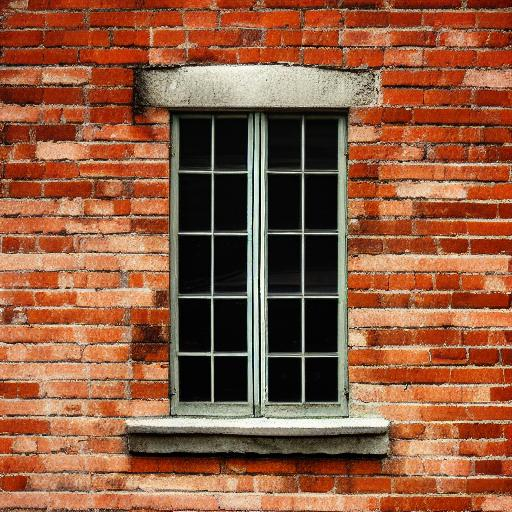Window: (123, 67, 390, 460)
